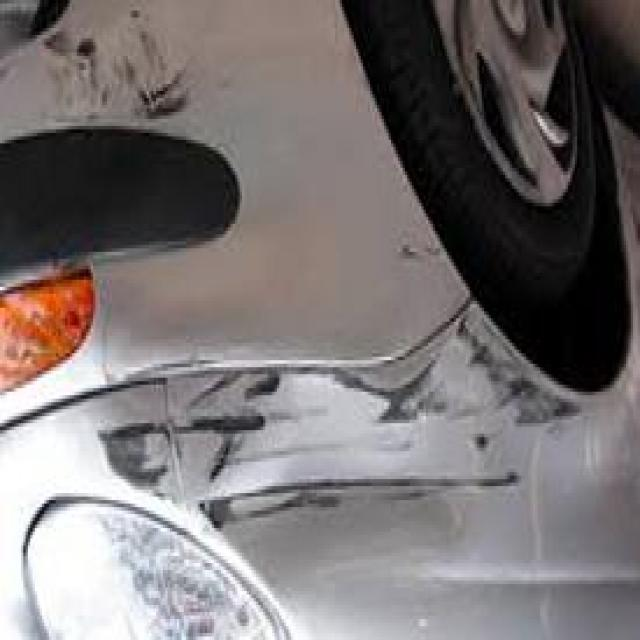scratch: (70, 299, 578, 523), (40, 19, 202, 142)
